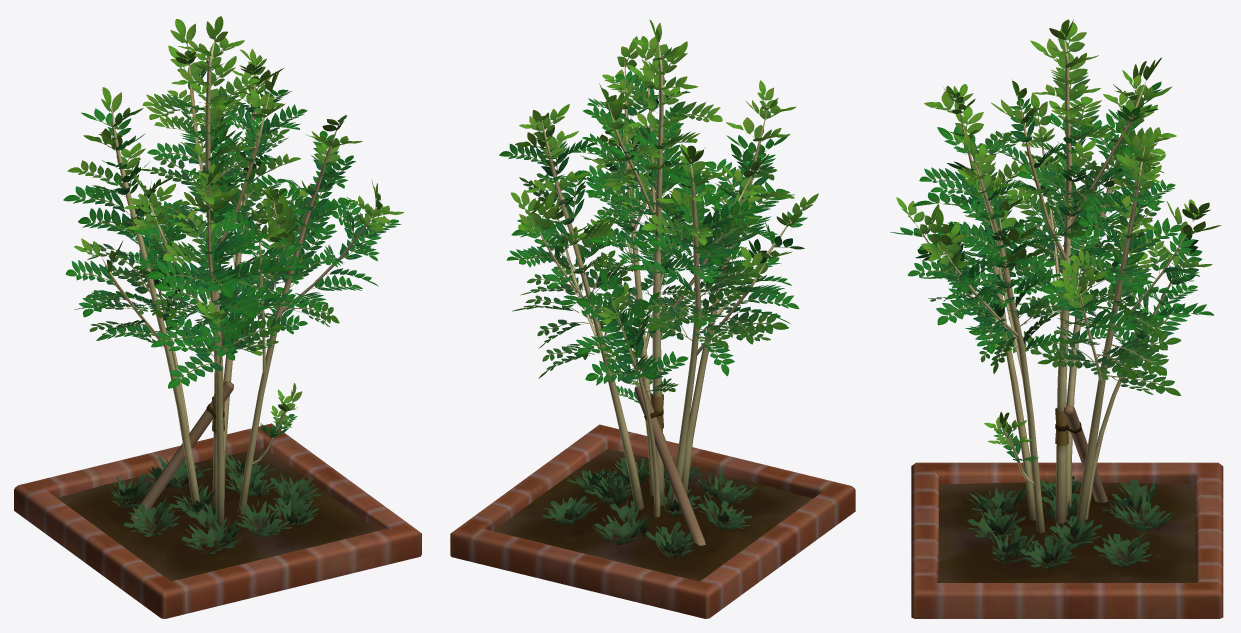
3 renders of one model, left to right at view 1: azimuth 30°, elevation 25°; view 2: azimuth 150°, elevation 25°; view 3: azimuth 270°, elevation 25°, orthographic. The views are drawn at different scales.
Bounding box in the file's own units: 17.94 × 30.9 × 17.84.
2 materials, 2 textured.
